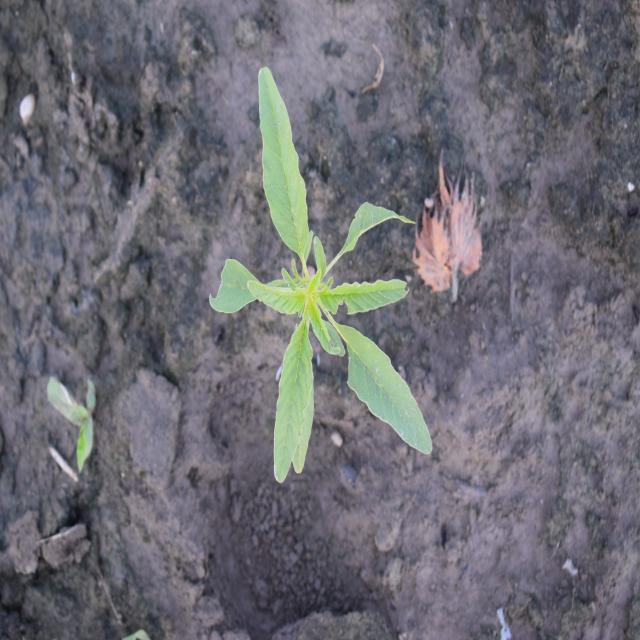Waterhemp: (207, 64, 434, 486)
